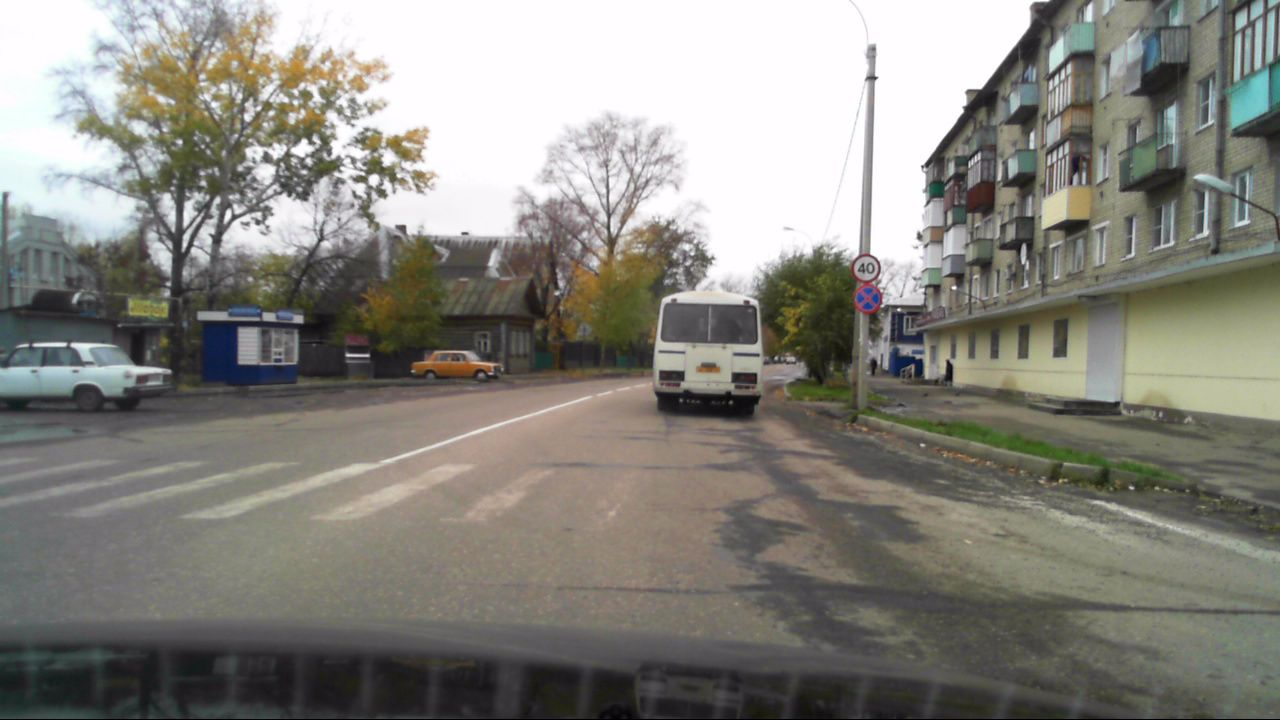No Parking: (851, 281, 883, 314)
speed_warning_40: (850, 254, 881, 283)
